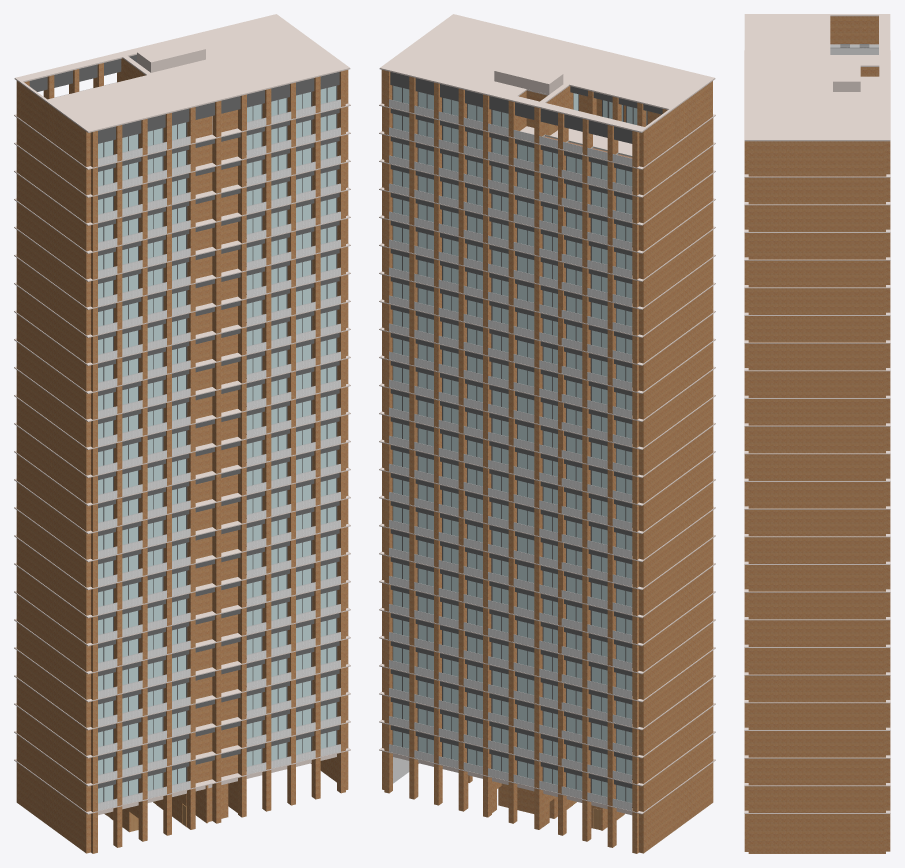
The model's file is Torre_B-2-FIX.fbx.
3 renders of one model, left to right at view 1: azimuth 30°, elevation 25°; view 2: azimuth 150°, elevation 25°; view 3: azimuth 270°, elevation 25°, orthographic.
Parts seen in each view (by area): view 1: MSH_Torre_B, MSH_Ventanas_Torre_B.002, MSH_Ventanas_Torre_B.003, MSH_Torre_2_Azotea, MSH_Ventanas_Torre_B.001, MSH_Barandales_planos.004, MSH_Barandales_planos.003, MSH_Barandales_planos.005, MSH_Torre_B_Bloques.002, MSH_Azotea_terraza_food_lab_Torre_B, MSH_Torre_2_Piso_1_078, MSH_Torre_B_Bloques.003 (+6 smaller); view 2: MSH_Torre_B, MSH_Ventanas_Torre_B.004, MSH_Ventanas_Torre_B.005, MSH_Ventanas_Torre_B.006, MSH_Barandales_planos.001, MSH_Torre_2_Azotea, MSH_Barandales_planos, MSH_Barandales_planos.002, MSH_Azotea_terraza_food_lab_Torre_B, MSH_Torre_B_Bloques.002, MSH_Torre_2_Piso_1_078, MSH_Torre_B_Bloques.003 (+7 smaller); view 3: MSH_Torre_B, MSH_Torre_2_Azotea, MSH_Torre_2_Piso_1_078, MSH_Techo_food_lab_Torre_B, MSH_Azotea_terraza_food_lab_Torre_B, MSH_Torre_B_Pisos.002, MSH_Torre_B_Pisos.001, MSH_Torre_B_Pisos.003, MSH_Horno_azotea_torre_B.
Boxes of the visible parts, x1,y1,x2,y2 form: MSH_Torre_B: (16, 106, 348, 812); MSH_Ventanas_Torre_B.002: (98, 282, 337, 578); MSH_Ventanas_Torre_B.003: (98, 534, 337, 802); MSH_Torre_2_Azotea: (122, 14, 350, 138); MSH_Ventanas_Torre_B.001: (98, 85, 337, 326); MSH_Barandales_planos.004: (98, 295, 340, 586); MSH_Barandales_planos.003: (98, 548, 340, 810); MSH_Barandales_planos.005: (98, 99, 340, 334); MSH_Torre_B_Bloques.002: (98, 304, 339, 592); MSH_Azotea_terraza_food_lab_Torre_B: (14, 52, 195, 167); MSH_Torre_2_Piso_1_078: (16, 751, 348, 853); MSH_Torre_B_Bloques.003: (98, 557, 339, 788); MSH_Torre_B: (382, 106, 713, 812); MSH_Ventanas_Torre_B.004: (392, 282, 632, 583); MSH_Ventanas_Torre_B.005: (392, 534, 632, 807); MSH_Ventanas_Torre_B.006: (392, 85, 632, 330); MSH_Barandales_planos.001: (389, 295, 631, 586); MSH_Torre_2_Azotea: (379, 14, 607, 131); MSH_Barandales_planos: (389, 548, 631, 810); MSH_Barandales_planos.002: (389, 99, 632, 334); MSH_Azotea_terraza_food_lab_Torre_B: (508, 77, 712, 167); MSH_Torre_B_Bloques.002: (390, 305, 632, 592); MSH_Torre_2_Piso_1_078: (382, 751, 713, 853); MSH_Torre_B_Bloques.003: (390, 557, 632, 788); MSH_Torre_B: (744, 177, 890, 812); MSH_Torre_2_Azotea: (744, 55, 890, 176); MSH_Torre_2_Piso_1_078: (744, 814, 890, 853); MSH_Techo_food_lab_Torre_B: (744, 14, 814, 65); MSH_Azotea_terraza_food_lab_Torre_B: (814, 14, 890, 76); MSH_Torre_B_Pisos.002: (744, 344, 890, 592); MSH_Torre_B_Pisos.001: (744, 50, 890, 343); MSH_Torre_B_Pisos.003: (744, 593, 890, 813); MSH_Horno_azotea_torre_B: (830, 44, 878, 54).
Bounding box in the file's own units: 3239 × 8639 × 1579.
